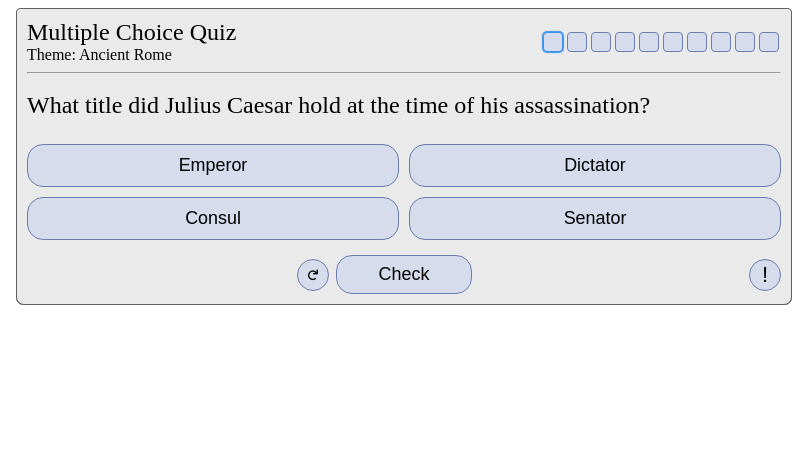
Scenario: Multiple Choice Quiz › Correct answer is submitted
The image size is (809, 473).
Click the button "Dictator". click: (595, 166)
box: [409, 144, 781, 187]
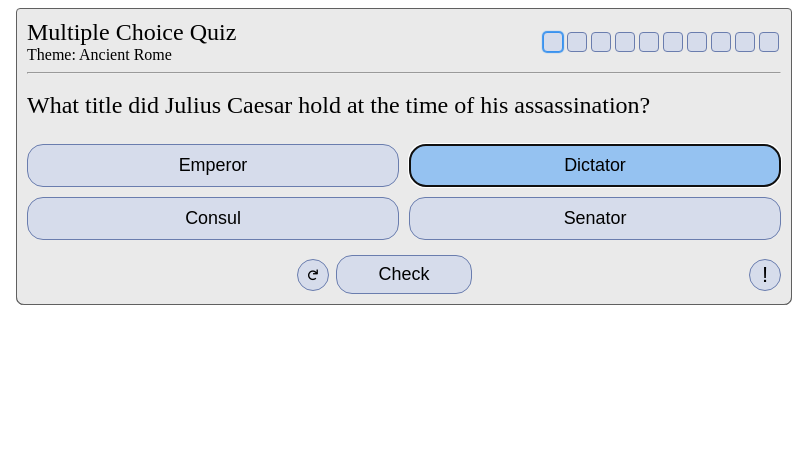
Click the button with test id "mcq-check-button". click: (404, 274)
box: [336, 255, 472, 294]
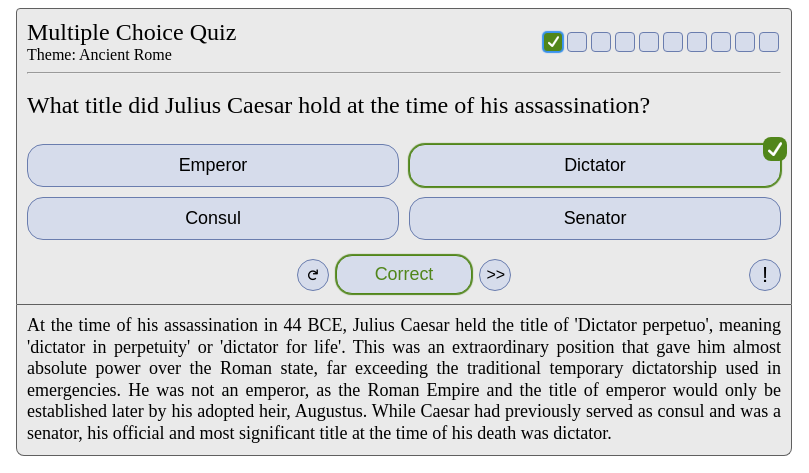
Check: the button with test id "mcq-check-button" reads "Correct", box [336, 255, 472, 294]
Check: the button "Dictator" is disabled, box [409, 144, 781, 187]
